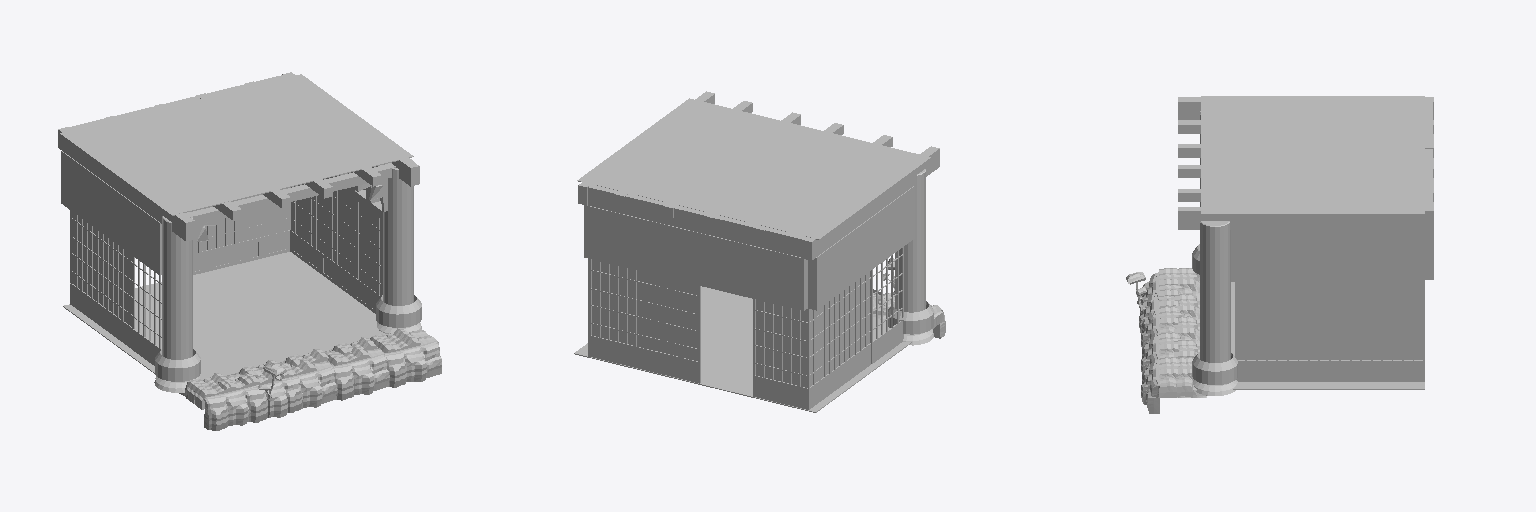
File: MountainHouse.obj
The picture shows the model from 3 angles: view 1: azimuth 30°, elevation 25°; view 2: azimuth 150°, elevation 25°; view 3: azimuth 270°, elevation 25°; orthographic projection.
Parts seen in each view (by area): view 1: pCube42, pCube26, pCylinder1, pCylinder2, pPlane7, pPlane4, pPlane3, pPlane6, pPlane11, pPlane5, pCube31, pPlane2 polySurface24 (+15 smaller); view 2: pCube42, pCube26, pPlane10, pPlane8, pPlane11, pCylinder1, pPlane2 polySurface23, pPlane6, pPlane2 polySurface21, pPlane2 polySurface20, pPlane2 polySurface22, pPlane7 (+8 smaller); view 3: pCube42, pPlane5, pPlane3, pPlane4, pCylinder2, pPlane2 polySurface29, pPlane2 polySurface28, pPlane2 polySurface27, pCube39, pCube26, pCube38, cliffs1_pPlane5 (+4 smaller).
Boxes of the visible parts, box(x1,y1,x2,y2) form: pCube42: box(60, 74, 413, 215); pCube26: box(63, 252, 387, 379); pCylinder1: box(154, 212, 200, 392); pCylinder2: box(376, 158, 421, 333); pPlane7: box(71, 211, 103, 326); pPlane4: box(321, 179, 352, 295); pPlane3: box(352, 199, 382, 313); pPlane6: box(102, 235, 132, 349); pPlane11: box(235, 187, 290, 264); pPlane5: box(290, 184, 321, 273); pCube31: box(185, 163, 395, 224); pPlane2 polySurface24: box(61, 151, 96, 228); pCube42: box(577, 98, 930, 239); pCube26: box(574, 287, 911, 412); pPlane10: box(753, 299, 809, 409); pPlane8: box(644, 272, 700, 383); pPlane11: box(590, 259, 644, 369); pCylinder1: box(888, 169, 933, 345); pPlane2 polySurface23: box(748, 245, 807, 310); pPlane6: box(839, 271, 870, 386); pPlane2 polySurface21: box(639, 218, 694, 284); pPlane2 polySurface20: box(584, 205, 639, 270); pPlane2 polySurface22: box(693, 231, 748, 297); pPlane7: box(810, 294, 840, 408); pCube42: box(1201, 96, 1424, 214); pPlane5: box(1360, 279, 1424, 381); pPlane3: box(1235, 282, 1298, 381); pPlane4: box(1298, 282, 1361, 381); pCylinder2: box(1192, 221, 1237, 395); pPlane2 polySurface29: box(1352, 230, 1423, 281); pPlane2 polySurface28: box(1291, 230, 1355, 281); pPlane2 polySurface27: box(1231, 230, 1291, 281); pCube39: box(1178, 220, 1433, 229); pCube26: box(1231, 282, 1424, 389); pCube38: box(1178, 207, 1433, 220); cliffs1_pPlane5: box(1141, 359, 1159, 413).
Bounding box in the file's own units: 86.82 × 63.27 × 88.67.